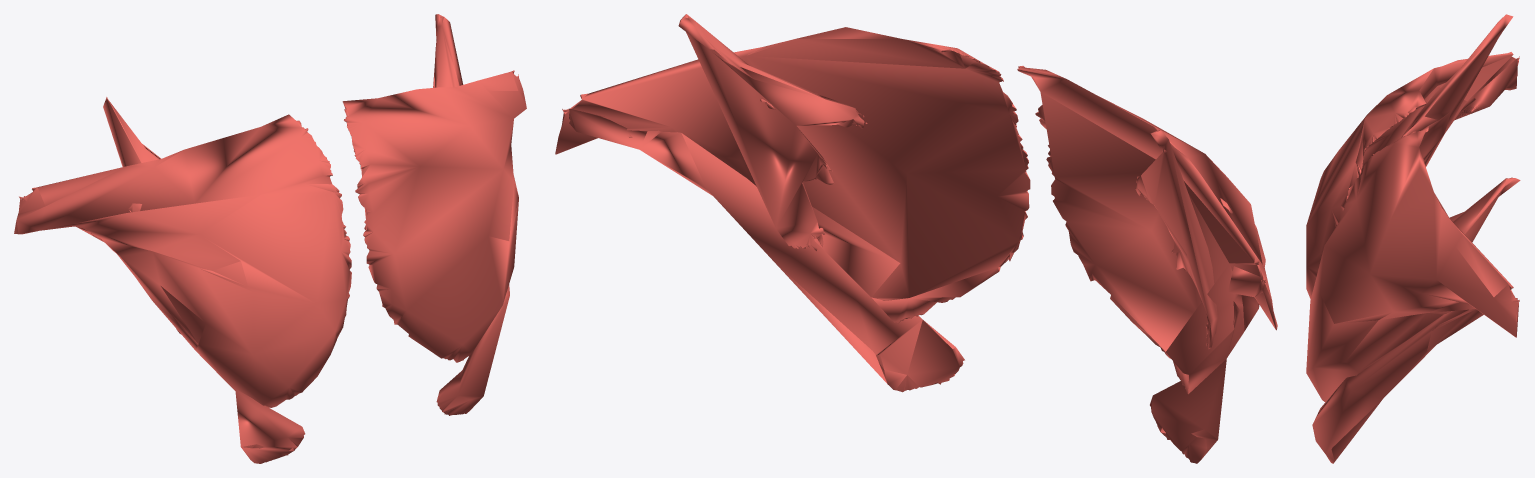
Rendered from supplement-spine-trunk-muscle-pectorals.glb.
The picture shows the model from 3 angles, left to right: view 1: azimuth 30°, elevation 25°; view 2: azimuth 150°, elevation 25°; view 3: azimuth 270°, elevation 25°; orthographic projection. The views are drawn at different scales.
Visible parts, largest first — view 1: spine-trunk:pectoralis-major:isa:FJ1464, spine-trunk:pectoralis-major:isa:FJ1464M, spine-trunk:pectoralis-major:isa:FJ1446, spine-trunk:pectoralis-major:isa:FJ1446M, spine-trunk:pectoralis-minor:isa:FJ1456M, spine-trunk:pectoralis-minor:isa:FJ1456; view 2: spine-trunk:pectoralis-major:isa:FJ1464M, spine-trunk:pectoralis-major:isa:FJ1464, spine-trunk:pectoralis-major:isa:FJ1446M, spine-trunk:pectoralis-minor:isa:FJ1456M, spine-trunk:pectoralis-minor:isa:FJ1456, spine-trunk:pectoralis-major:isa:FJ1446; view 3: spine-trunk:pectoralis-major:isa:FJ1464M, spine-trunk:pectoralis-major:isa:FJ1464, spine-trunk:pectoralis-major:isa:FJ1446M, spine-trunk:pectoralis-minor:isa:FJ1456, spine-trunk:pectoralis-minor:isa:FJ1456M, spine-trunk:pectoralis-major:isa:FJ1446.
Boxes of the visible parts, box(x1,y1,x2,y2) form: spine-trunk:pectoralis-major:isa:FJ1464: box(14, 114, 351, 407); spine-trunk:pectoralis-major:isa:FJ1464M: box(342, 70, 526, 362); spine-trunk:pectoralis-major:isa:FJ1446: box(24, 196, 305, 463); spine-trunk:pectoralis-major:isa:FJ1446M: box(436, 284, 509, 415); spine-trunk:pectoralis-minor:isa:FJ1456M: box(433, 14, 463, 87); spine-trunk:pectoralis-minor:isa:FJ1456: box(103, 97, 180, 333); spine-trunk:pectoralis-major:isa:FJ1464M: box(555, 27, 1030, 323); spine-trunk:pectoralis-major:isa:FJ1464: box(1017, 66, 1277, 394); spine-trunk:pectoralis-major:isa:FJ1446M: box(569, 108, 964, 392); spine-trunk:pectoralis-minor:isa:FJ1456M: box(678, 14, 867, 250); spine-trunk:pectoralis-minor:isa:FJ1456: box(1135, 129, 1217, 349); spine-trunk:pectoralis-major:isa:FJ1446: box(1150, 266, 1262, 463); spine-trunk:pectoralis-major:isa:FJ1464M: box(1306, 130, 1519, 402); spine-trunk:pectoralis-major:isa:FJ1464: box(1306, 52, 1519, 298); spine-trunk:pectoralis-major:isa:FJ1446M: box(1312, 298, 1517, 463); spine-trunk:pectoralis-minor:isa:FJ1456: box(1402, 14, 1513, 166); spine-trunk:pectoralis-minor:isa:FJ1456M: box(1449, 177, 1520, 242); spine-trunk:pectoralis-major:isa:FJ1446: box(1454, 58, 1517, 120).
Size of the model in its own units: 0.3757 by 0.2219 by 0.1364.
